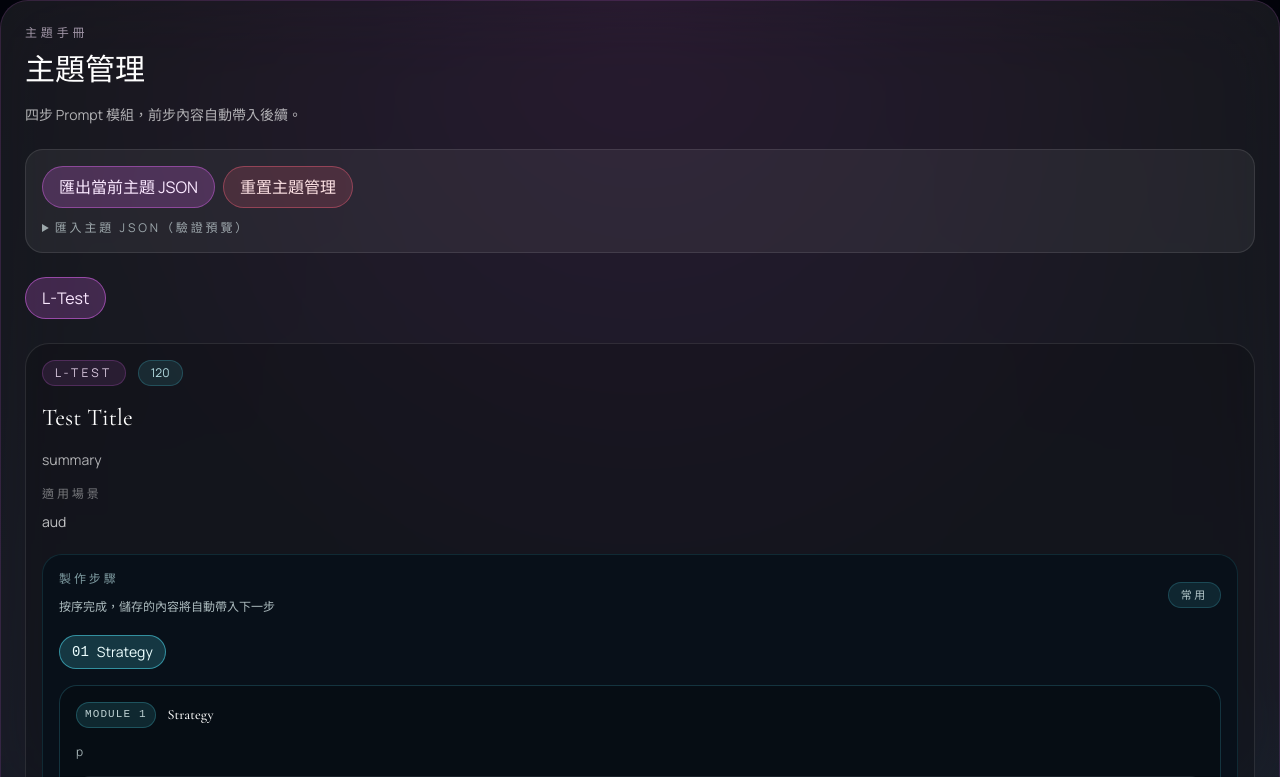
it: ThemeProgramPanel — 匯出 / 匯入工具列 › 點擊「匯出當前主題 JSON」會呼叫 clipboard.writeText 並顯示 feedback
Click the button with test id "tpp-export" at (128, 187), box 42,166 -> 215,208
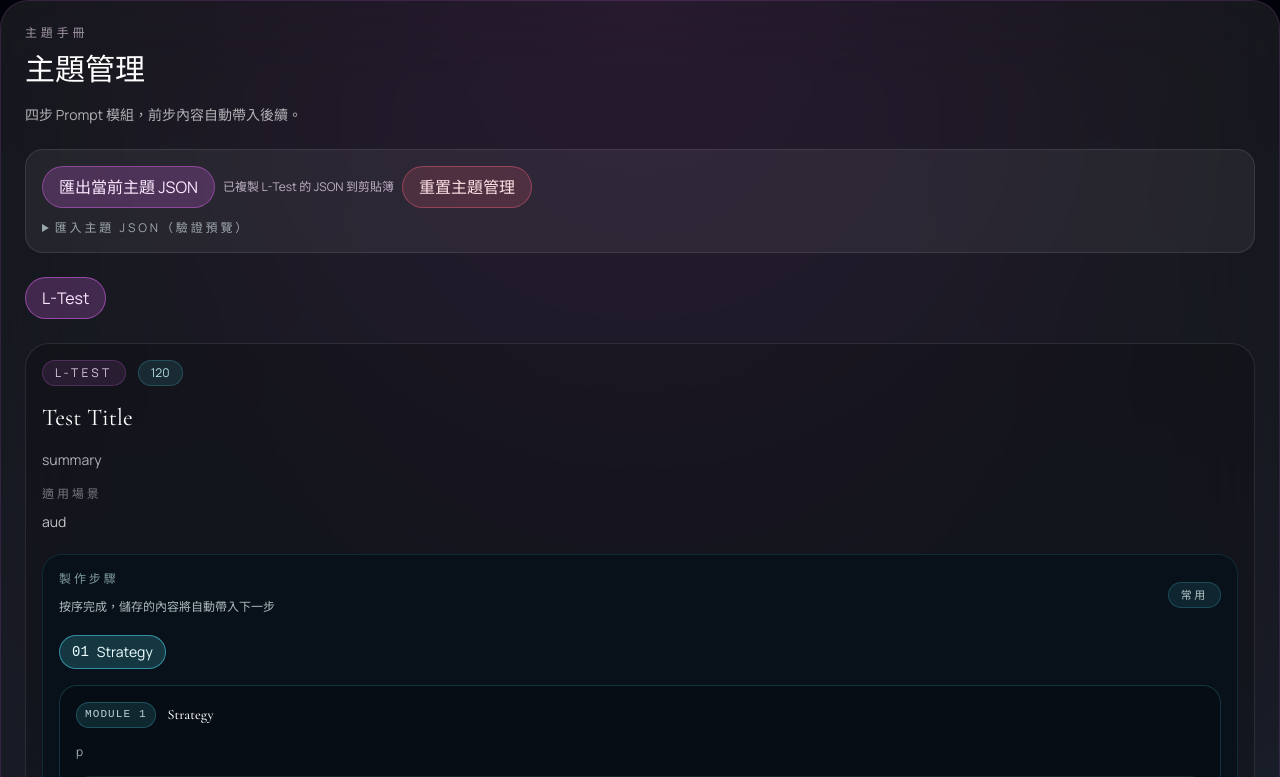
Expected: the text with test id "tpp-export-feedback" reads "已複製 L-Test 的 JSON 到剪貼簿", 223,178 -> 394,195
